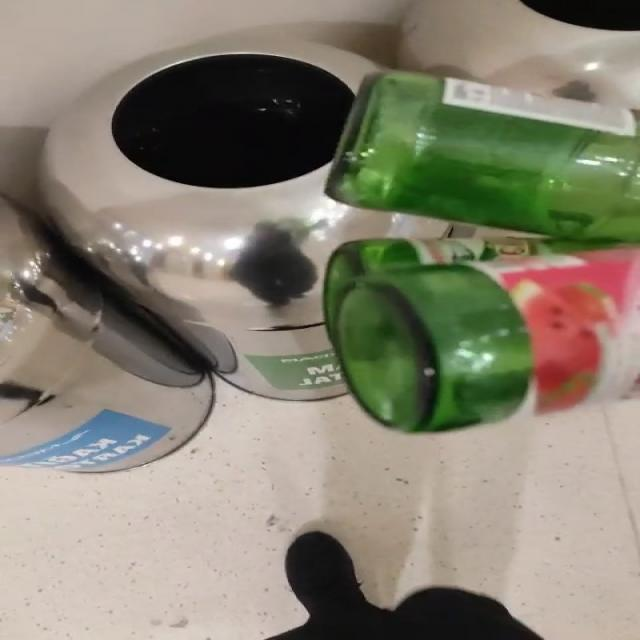Glass: (325, 71, 640, 432)
